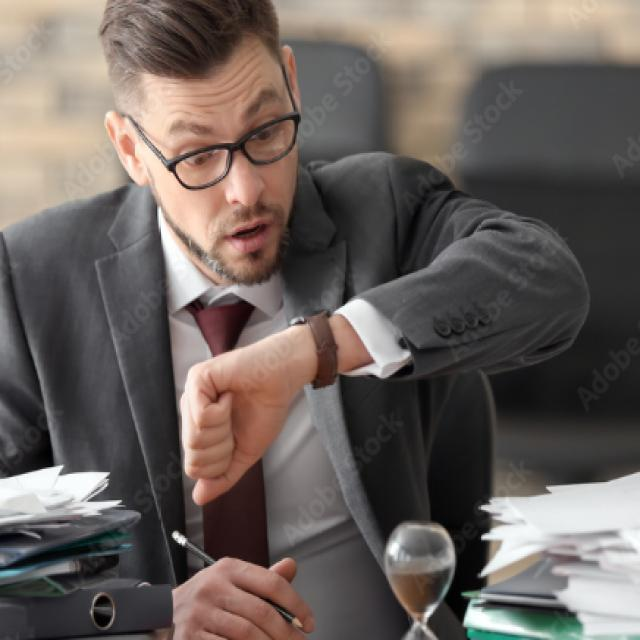Watch: (288, 306, 346, 387)
